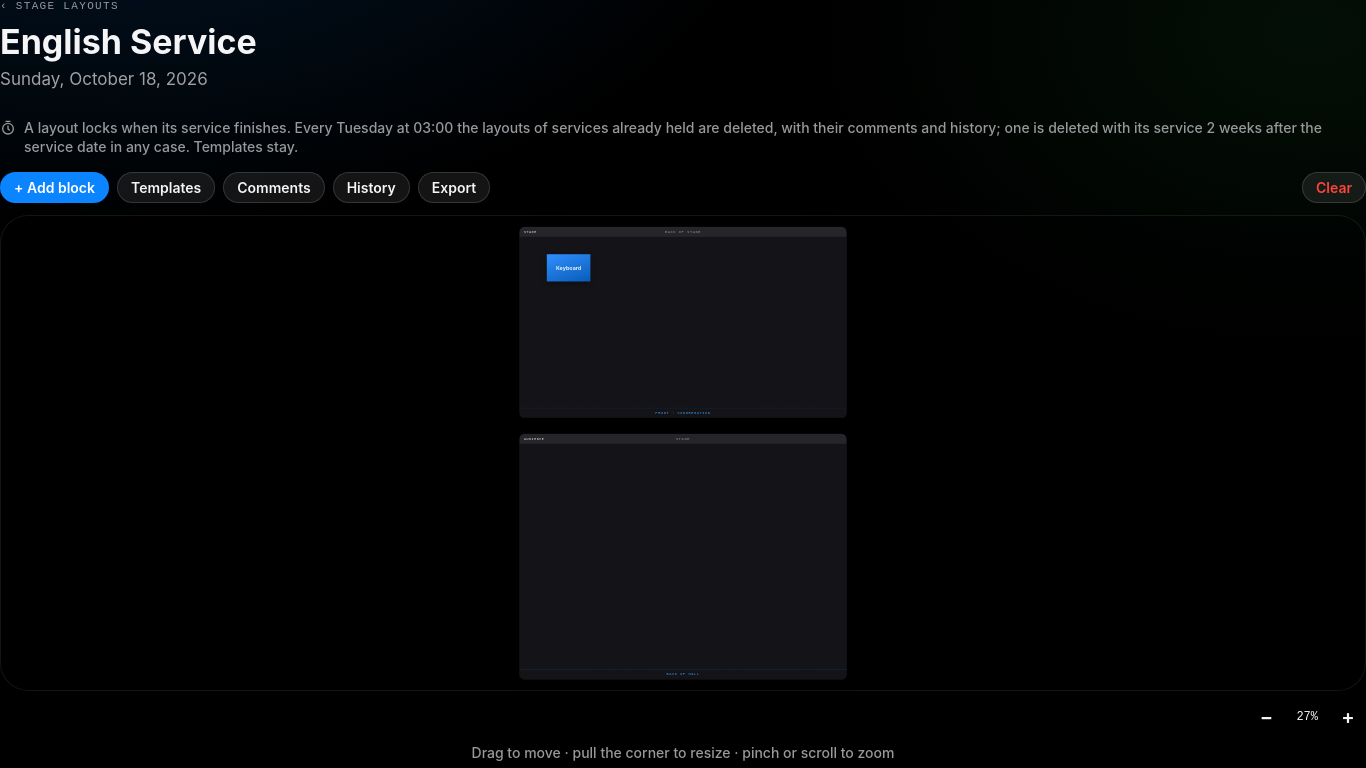
Test: a session’s stage › offers templates, and asks before replacing a drawn stage
What coordinates should you click on to do the following:
click the button "Templates"
I would click on:
 (166, 188)
Its box is x1=117 y1=172 x2=215 y2=203.
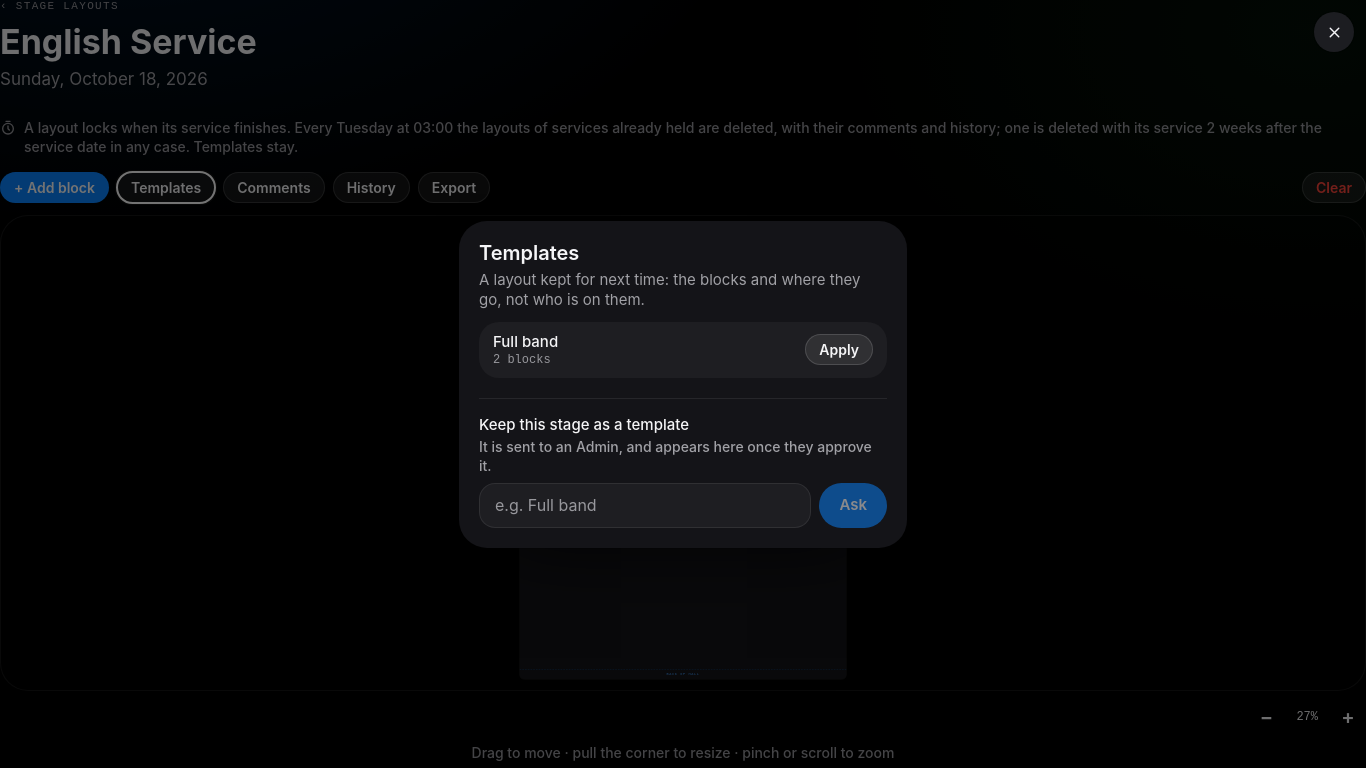
What coordinates should you click on to do the following:
click the button "Apply"
I would click on:
 (839, 350)
Its box is x1=805 y1=334 x2=873 y2=365.
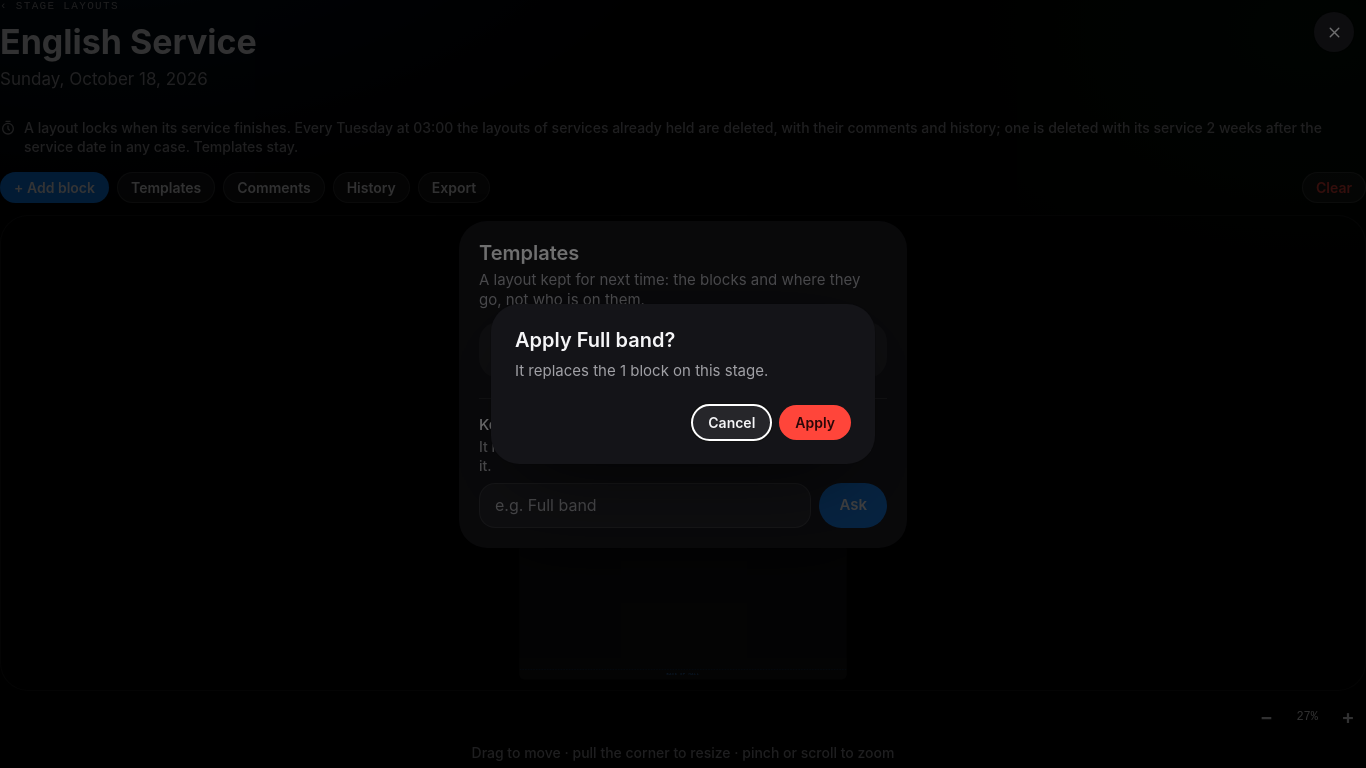
Expected: the text "sent to an Admin" is shown, x1=479 y1=438 x2=872 y2=474
Expected: the heading "Apply Full band?" is shown, x1=515 y1=328 x2=675 y2=352
